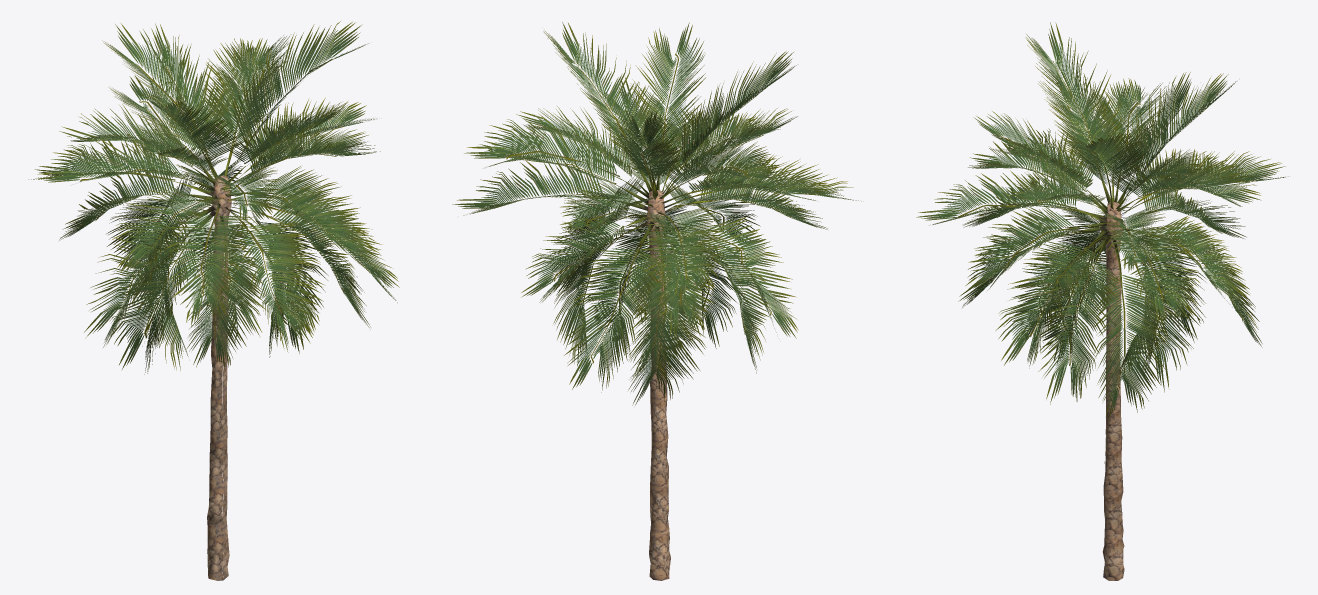
The model's file is palma_lontana.glb.
The picture shows the model from 3 angles, left to right: view 1: azimuth 30°, elevation 25°; view 2: azimuth 150°, elevation 25°; view 3: azimuth 270°, elevation 25°; orthographic projection. The views are drawn at different scales.
Parts seen in each view (by area): view 1: Tree_1, Tree_0, Tree_3; view 2: Tree_1, Tree_0, Tree_3; view 3: Tree_1, Tree_0, Tree_3.
Part boxes in pixels (<box>): Tree_1: <box>28,21,399,374</box>; Tree_0: <box>207,175,231,580</box>; Tree_3: <box>161,126,290,264</box>; Tree_1: <box>452,22,861,405</box>; Tree_0: <box>647,190,670,580</box>; Tree_3: <box>598,150,722,288</box>; Tree_1: <box>916,22,1288,418</box>; Tree_0: <box>1102,202,1124,580</box>; Tree_3: <box>1051,161,1179,292</box>.
Size of the model in its own units: 5.46 by 7.34 by 5.21.
3 materials, 3 textured.
